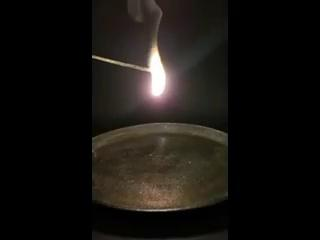Fire: (146, 35, 167, 96)
